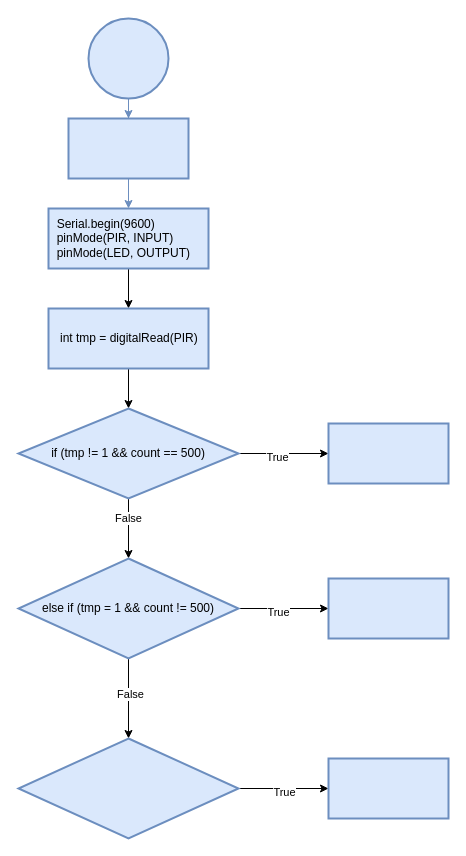
This 466x856 diagram has some shape labels left out. Each missing label, with the centre of its shape:
const int PIR = 2 const int LED = 4 int count = 0: the point at 128,148
else: the point at 128,788
